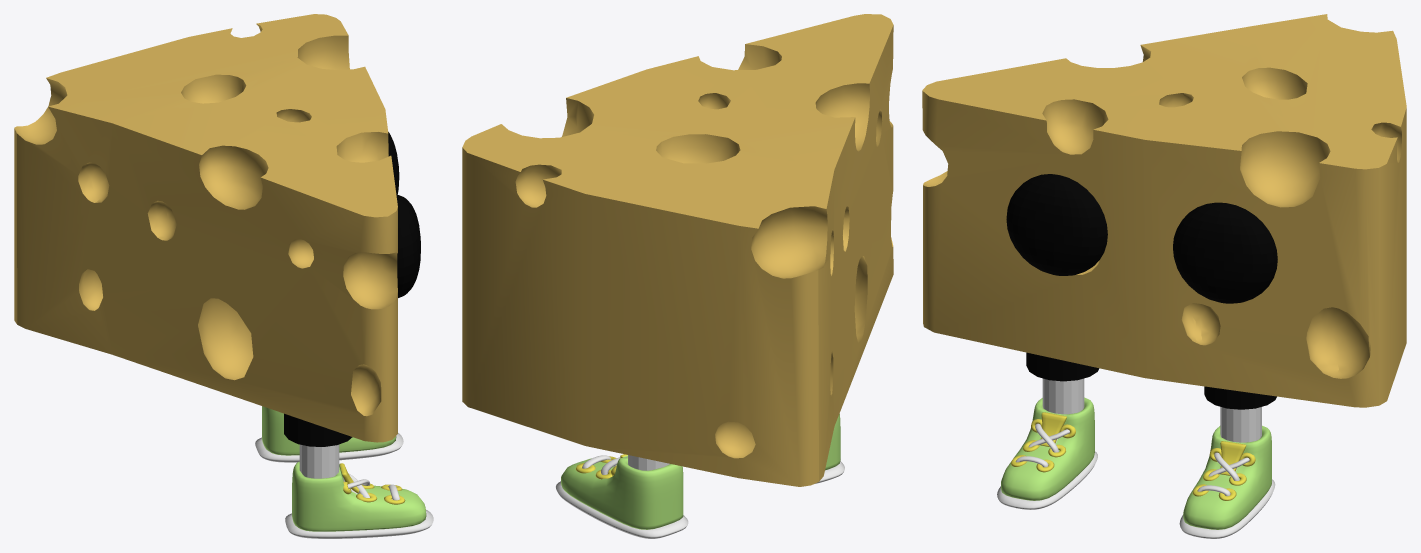
Rendered from Queso.fbx.
3 views of the same model, side by side, from view 1: azimuth 30°, elevation 25°; view 2: azimuth 150°, elevation 25°; view 3: azimuth 270°, elevation 25° (orthographic). The views are drawn at different scales.
Parts seen in each view (by area): view 1: cheese, Plane, Plane.001, Cylinder.001, Sphere.001; view 2: cheese, Plane.001, Plane; view 3: cheese, Sphere.002, Sphere.001, Plane, Plane.001, Cylinder.001, Cylinder.002.
Part boxes in pixels (<box>): cheese: <box>14,14,397,442</box>; Plane: <box>285,461,433,538</box>; Plane.001: <box>255,406,403,462</box>; Cylinder.001: <box>284,413,352,478</box>; Sphere.001: <box>396,194,420,297</box>; cheese: <box>462,14,893,486</box>; Plane.001: <box>556,454,688,538</box>; Plane: <box>815,413,844,483</box>; cheese: <box>922,14,1406,407</box>; Sphere.002: <box>1173,202,1277,303</box>; Sphere.001: <box>1006,174,1107,275</box>; Plane: <box>997,397,1097,509</box>; Plane.001: <box>1179,425,1275,538</box>; Cylinder.001: <box>1026,352,1099,414</box>; Cylinder.002: <box>1204,386,1276,442</box>.
Size of the model in its own units: 157 by 172 by 198.
